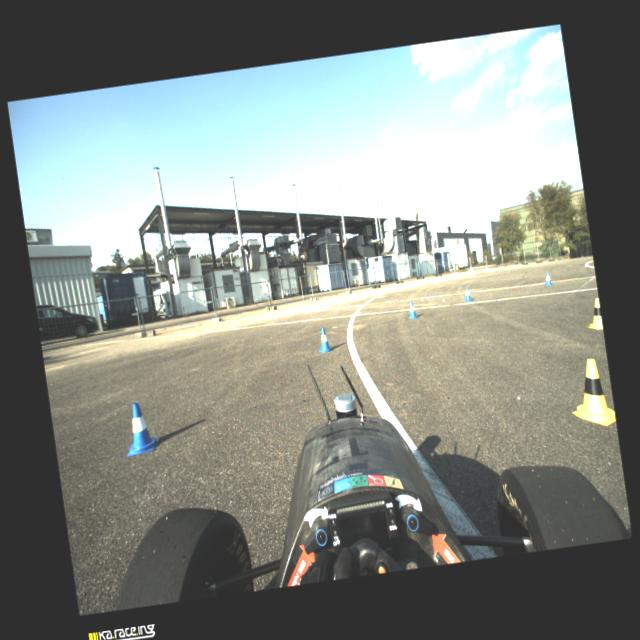blue_cone: (120, 400, 160, 456), (316, 326, 333, 353), (407, 300, 418, 319), (462, 286, 472, 302), (543, 272, 553, 286)
yellow_cone: (564, 356, 617, 431), (584, 298, 604, 331)
